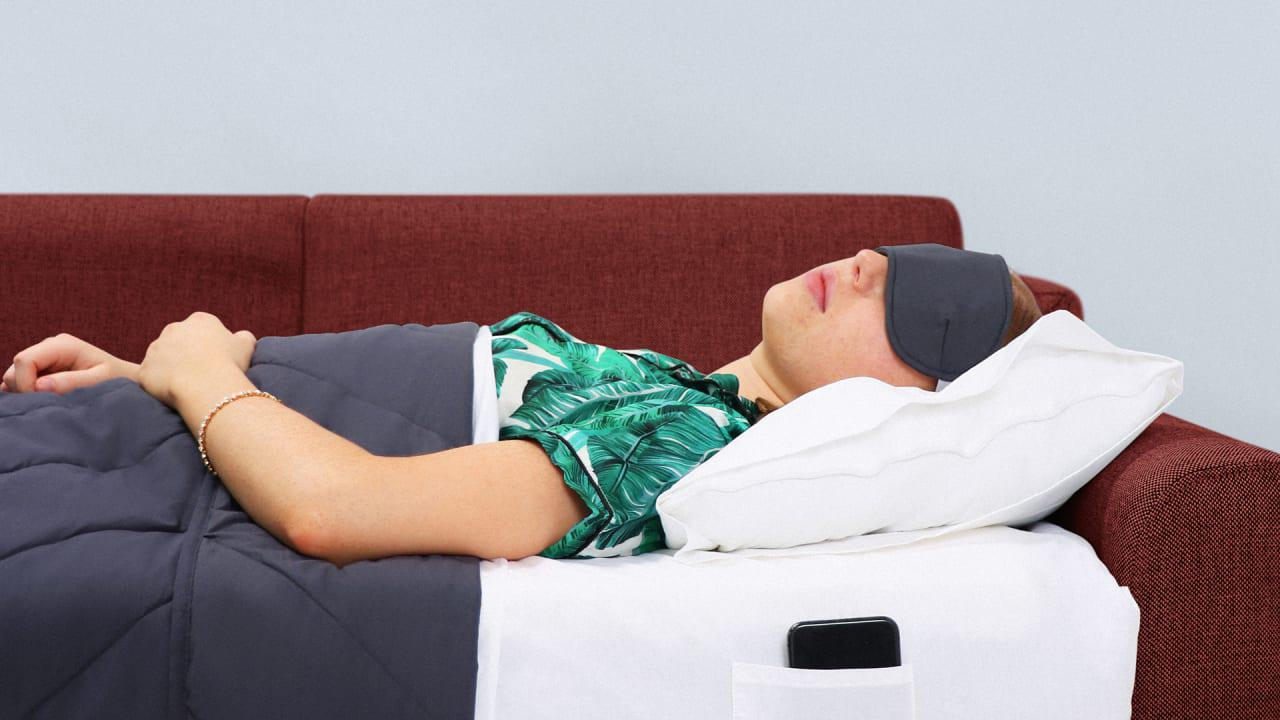WRONG: (760, 241, 978, 368)
